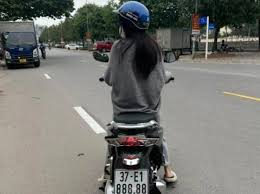Bien-so: (114, 169, 147, 193)
